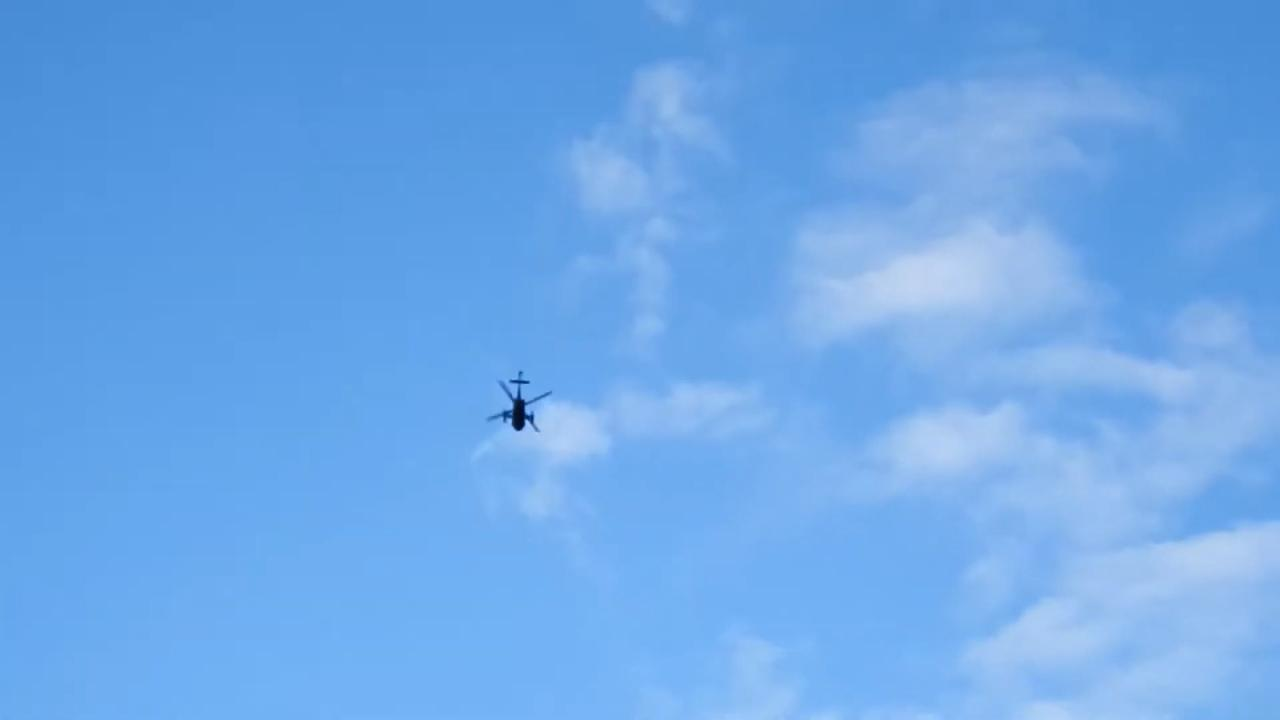Helicopter: (451, 353, 590, 456)
